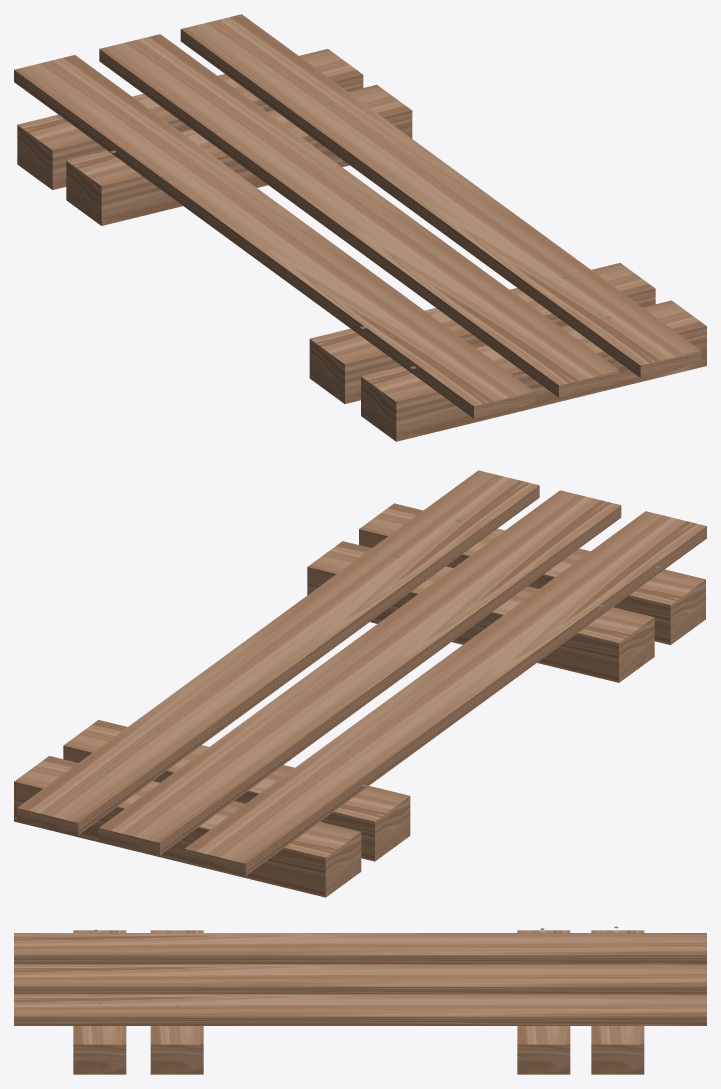
Rendered from woodpalets.fbx.
3 renders of one model, top to bottom at view 1: azimuth 30°, elevation 25°; view 2: azimuth 150°, elevation 25°; view 3: azimuth 270°, elevation 25°, orthographic. The views are drawn at different scales.
Visible parts, largest first — view 1: pasted__pasted__pasted__pasted__pasted__pasted__pCube1, pasted__pasted__pasted__pasted__pasted__pasted__pasted__pCub, pasted__pasted__pasted__pasted__pasted__pCube1, pasted__pCube1, pasted__pasted__pasted__pasted__pCube1, pasted__pasted__pCube1, pasted__pasted__pasted__pCube1; view 2: pasted__pasted__pasted__pasted__pasted__pasted__pCube1, pasted__pasted__pasted__pasted__pasted__pCube1, pasted__pasted__pasted__pasted__pasted__pasted__pasted__pCub, pasted__pasted__pasted__pCube1, pasted__pasted__pCube1, pasted__pCube1, pasted__pasted__pasted__pasted__pCube1; view 3: pasted__pasted__pasted__pasted__pasted__pCube1, pasted__pasted__pasted__pasted__pasted__pasted__pasted__pCub, pasted__pasted__pasted__pasted__pasted__pasted__pCube1, pasted__pasted__pasted__pCube1, pasted__pasted__pasted__pasted__pCube1, pasted__pasted__pCube1, pasted__pCube1.
Boxes of the visible parts, <box> form: pasted__pasted__pasted__pasted__pasted__pasted__pCube1: <box>99,34,619,397</box>; pasted__pasted__pasted__pasted__pasted__pasted__pasted__pCub: <box>180,14,701,377</box>; pasted__pasted__pasted__pasted__pasted__pCube1: <box>14,55,534,418</box>; pasted__pCube1: <box>361,300,706,441</box>; pasted__pasted__pasted__pasted__pCube1: <box>66,84,412,225</box>; pasted__pasted__pCube1: <box>309,263,655,403</box>; pasted__pasted__pasted__pCube1: <box>17,49,363,189</box>; pasted__pasted__pasted__pasted__pasted__pasted__pCube1: <box>98,490,621,855</box>; pasted__pasted__pasted__pasted__pasted__pCube1: <box>184,511,706,875</box>; pasted__pasted__pasted__pasted__pasted__pasted__pasted__pCub: <box>17,470,539,835</box>; pasted__pasted__pasted__pCube1: <box>14,756,361,897</box>; pasted__pasted__pCube1: <box>307,541,654,682</box>; pasted__pCube1: <box>359,503,705,644</box>; pasted__pasted__pasted__pasted__pCube1: <box>63,720,410,861</box>; pasted__pasted__pasted__pasted__pasted__pCube1: <box>14,933,706,964</box>; pasted__pasted__pasted__pasted__pasted__pasted__pasted__pCub: <box>14,994,706,1025</box>; pasted__pasted__pasted__pasted__pasted__pasted__pCube1: <box>14,964,706,994</box>; pasted__pasted__pasted__pCube1: <box>591,930,644,1074</box>; pasted__pasted__pasted__pasted__pCube1: <box>517,930,570,1074</box>; pasted__pasted__pCube1: <box>150,930,203,1074</box>; pasted__pCube1: <box>73,930,126,1074</box>.
Size of the model in its own units: 3.52 by 0.5962 by 9.01.
Materials: 11 (3 with a texture image).
